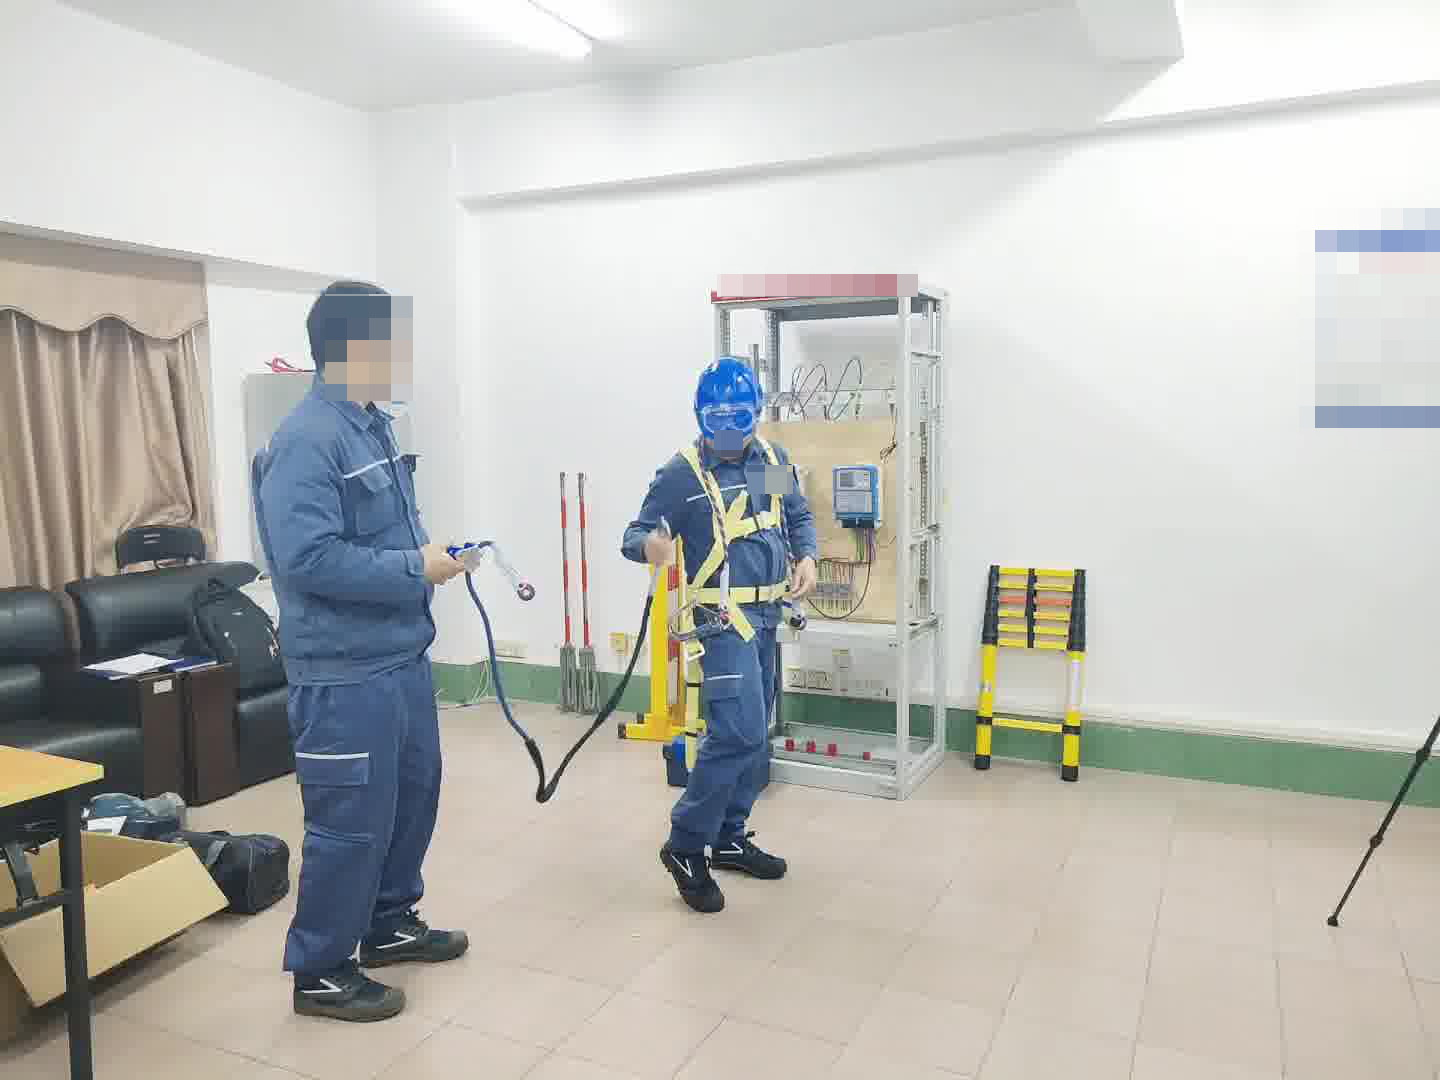downsuit: (275, 667, 447, 974), (669, 599, 781, 855)
halt: (693, 356, 765, 457)
hand: (422, 539, 463, 592), (786, 551, 823, 605), (643, 523, 674, 572)
noear: (345, 325, 389, 385)
person: (248, 274, 470, 1026), (615, 354, 825, 917)
safebelt: (644, 434, 798, 777)
unhalt: (305, 280, 415, 406)
upsuit: (251, 390, 439, 662), (621, 435, 819, 627)
